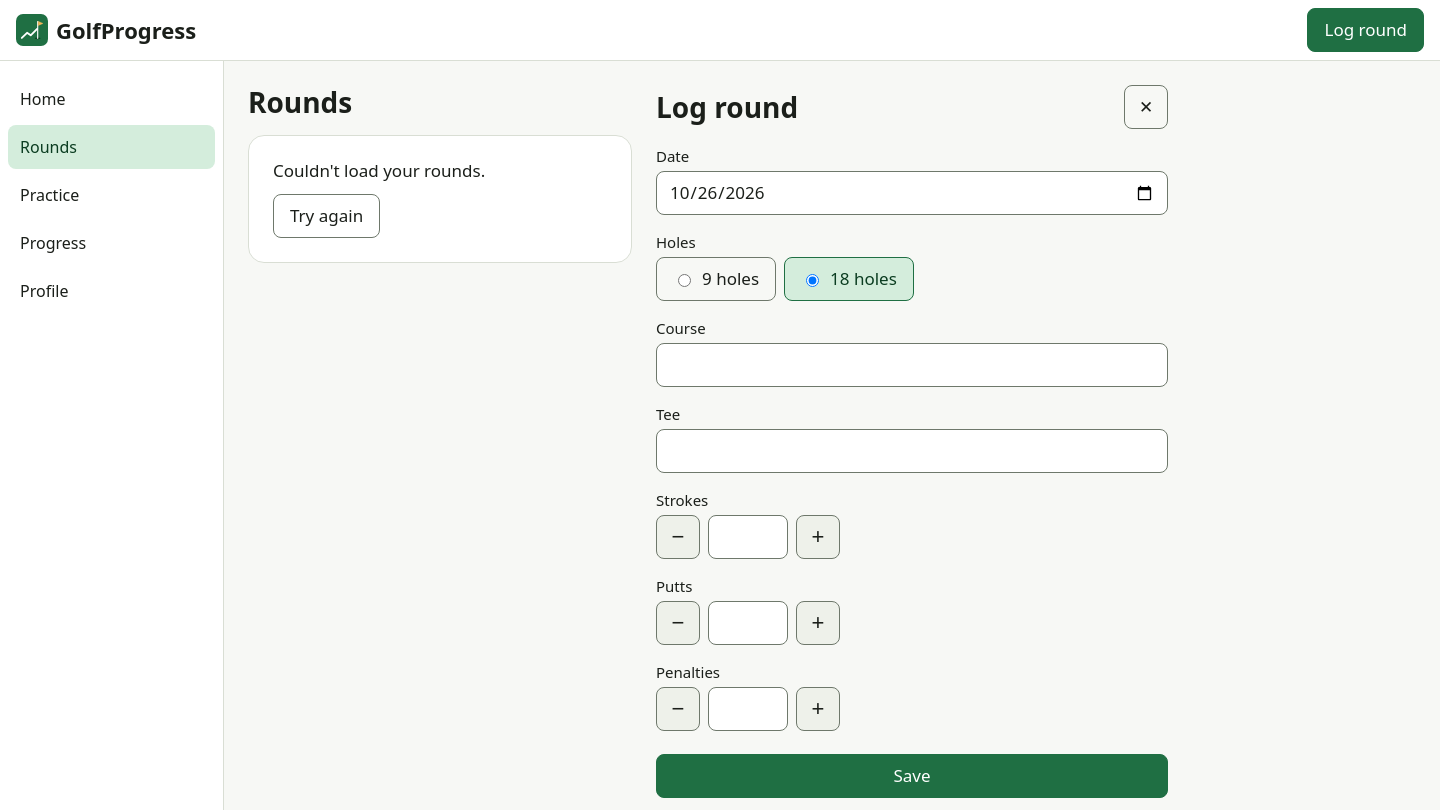
Log round (#92) › shows every stat in Detailed, with the hole count as their limit
Click the radio button labelled "9 holes": (684, 280) x1=678 y1=274 x2=691 y2=287
(page scrolled)
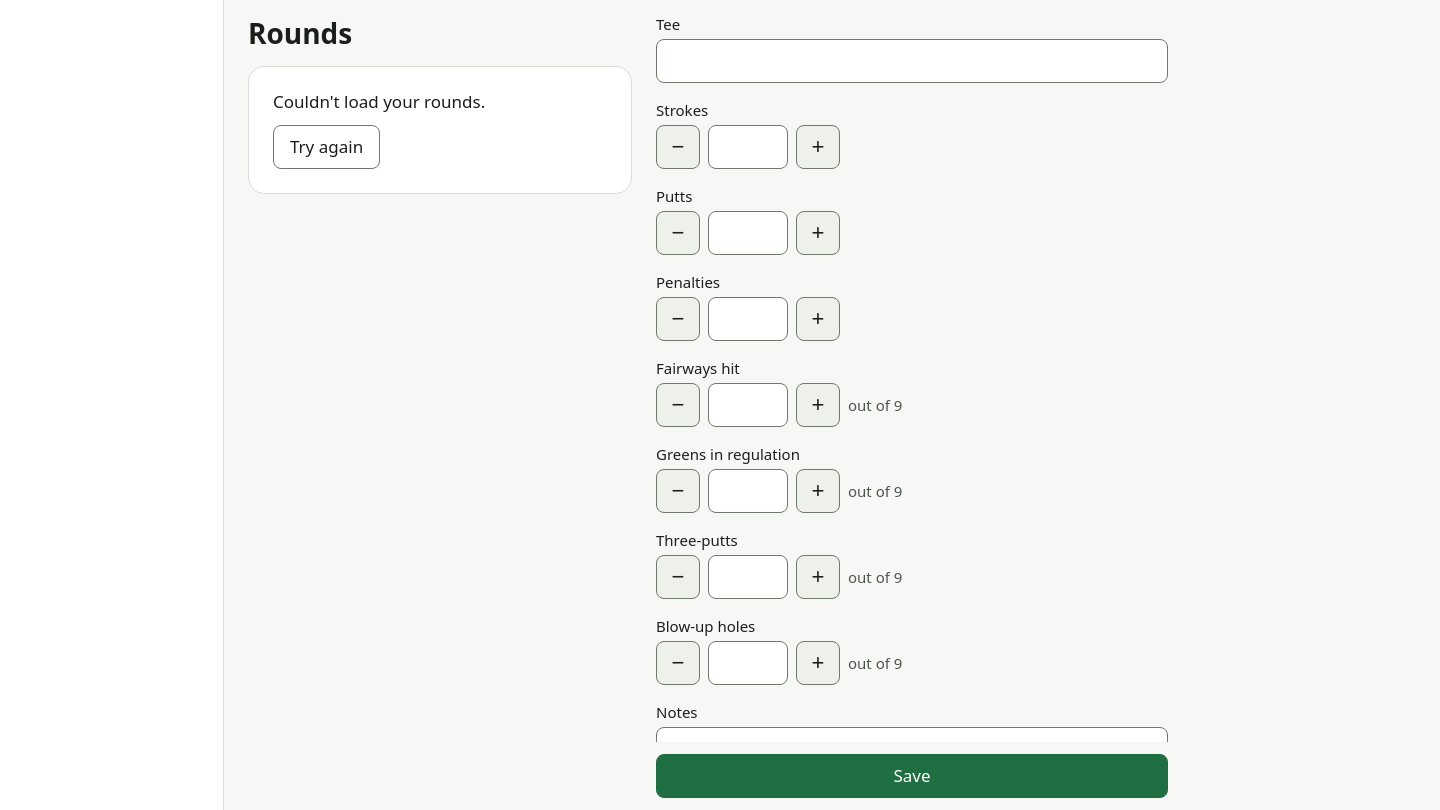
In the field labelled "Fairways hit": (748, 405) x1=708 y1=383 x2=788 y2=427, type "10"
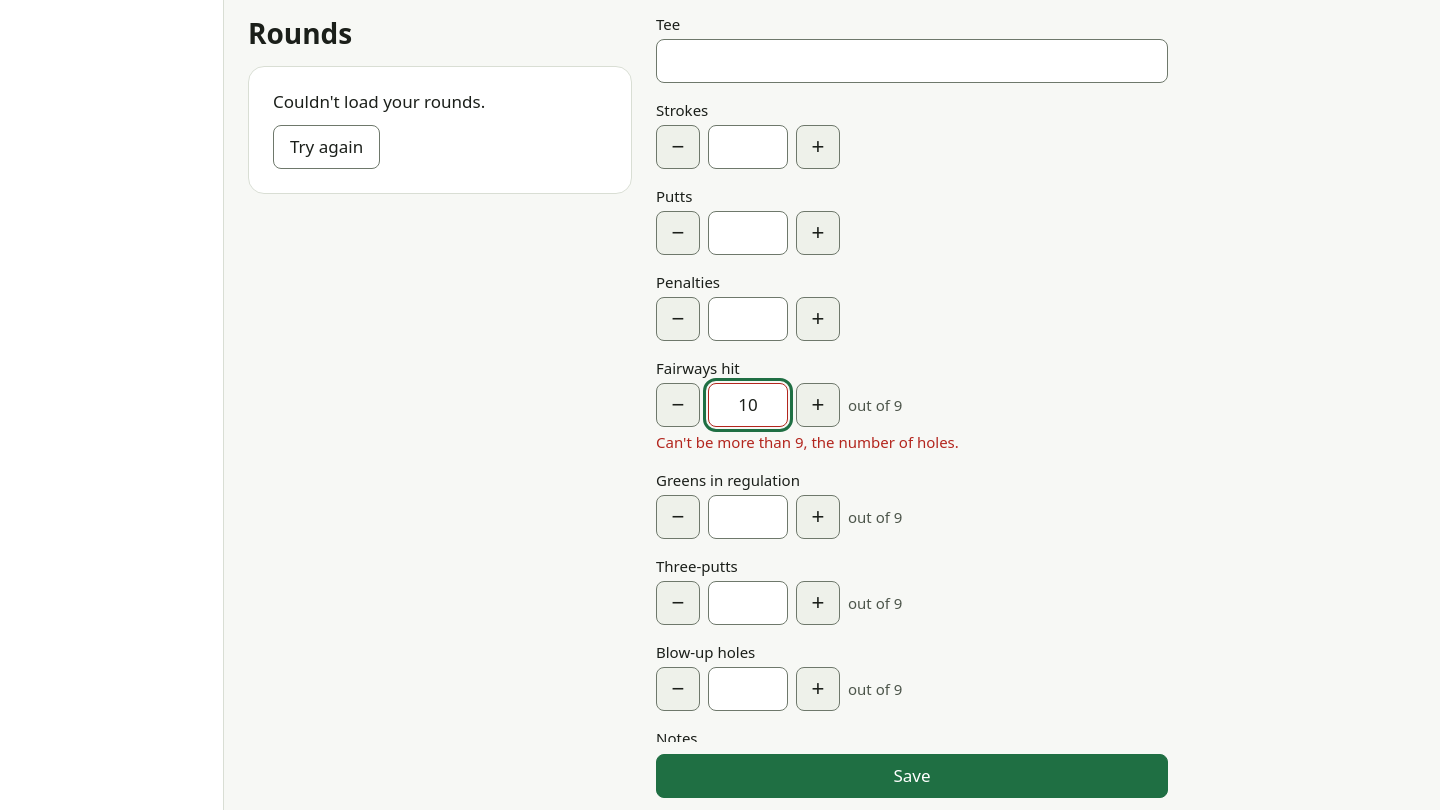
expect the text "Can't be more than 9, the number of holes." is shown: met, box x1=656 y1=432 x2=959 y2=452
